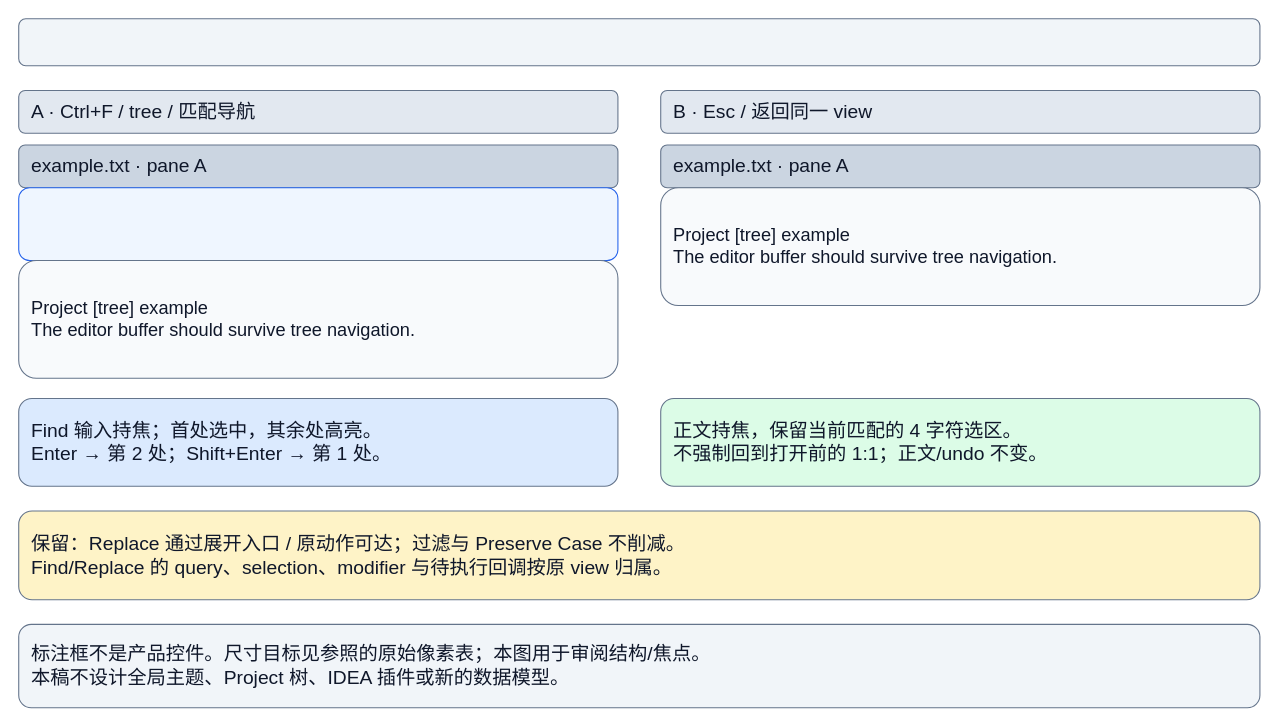
Image size: 1279x727. Some labels were removed from this diagram. Here are the shapes that lost their labels. From the top down, the centre of each, then its label:
the point at 639,42: WP-FIND-FOCUS-01 · 方案 v1（局部示意，非实测截图）
the point at 318,224: › [ tree Cc W .* ] 1/2 ↑ ↓ ... ×
